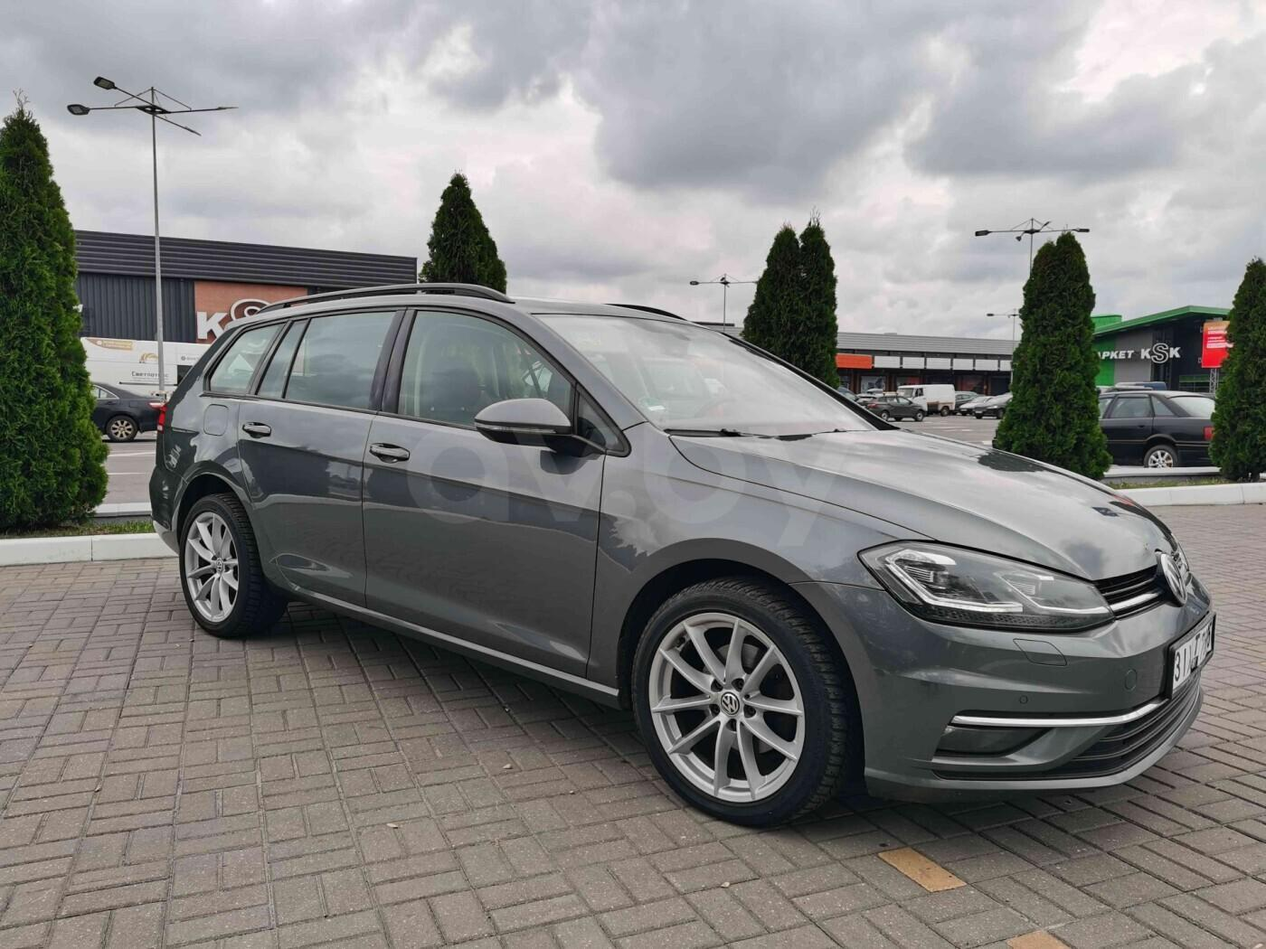Golf_2017-2021: (136, 286, 1226, 819)
